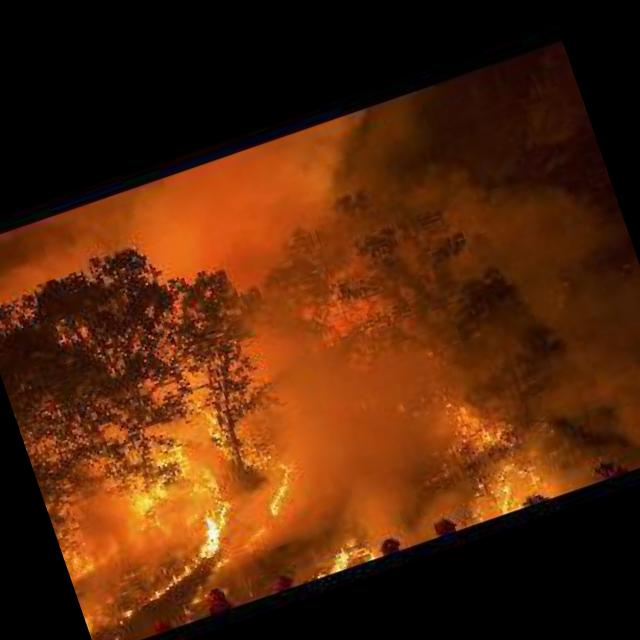fire: (29, 378, 326, 640), (401, 368, 557, 532)
